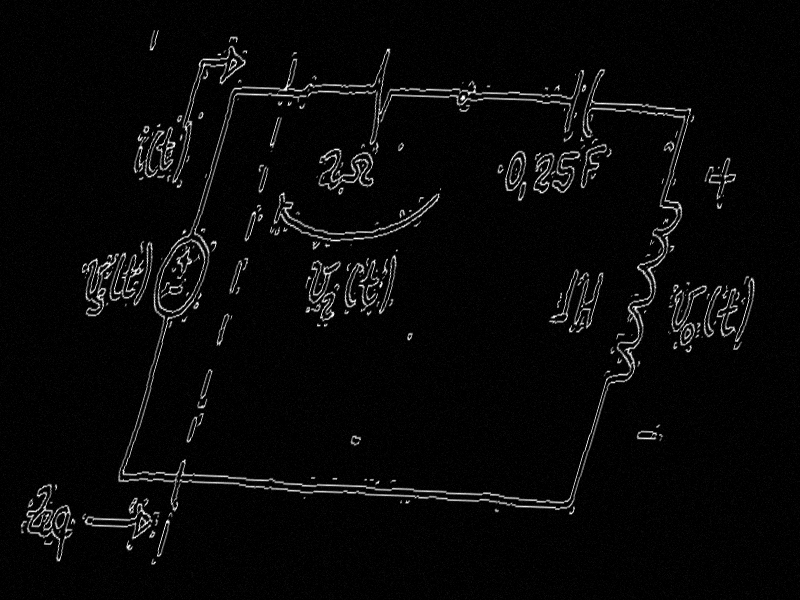-: (634, 428, 659, 444), (164, 282, 186, 296)
0: (499, 147, 532, 193), (675, 321, 699, 348)
1: (545, 265, 585, 330)
2: (313, 145, 352, 192), (526, 150, 559, 194), (314, 291, 340, 323)
5: (547, 148, 583, 196)
F: (573, 142, 609, 190)
H: (567, 268, 608, 330)
V: (662, 279, 710, 335), (298, 256, 344, 308), (74, 254, 116, 305)
